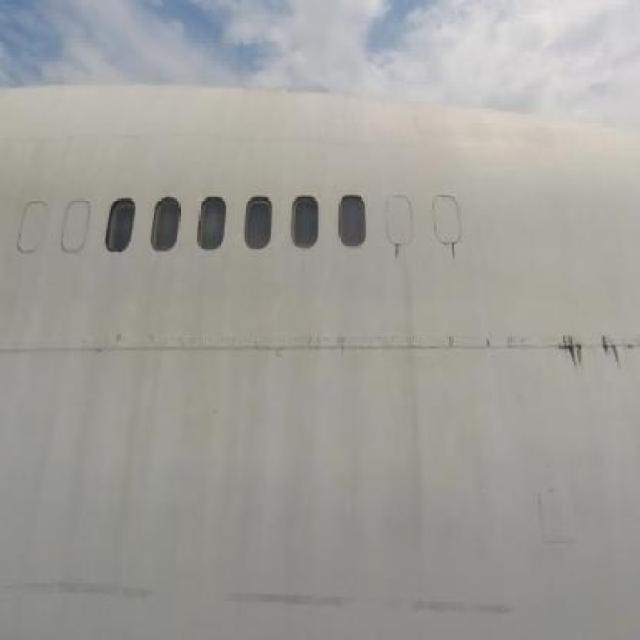Rust: (551, 314, 640, 391), (445, 240, 470, 265), (388, 239, 406, 270)
Scartch: (6, 562, 516, 632)
